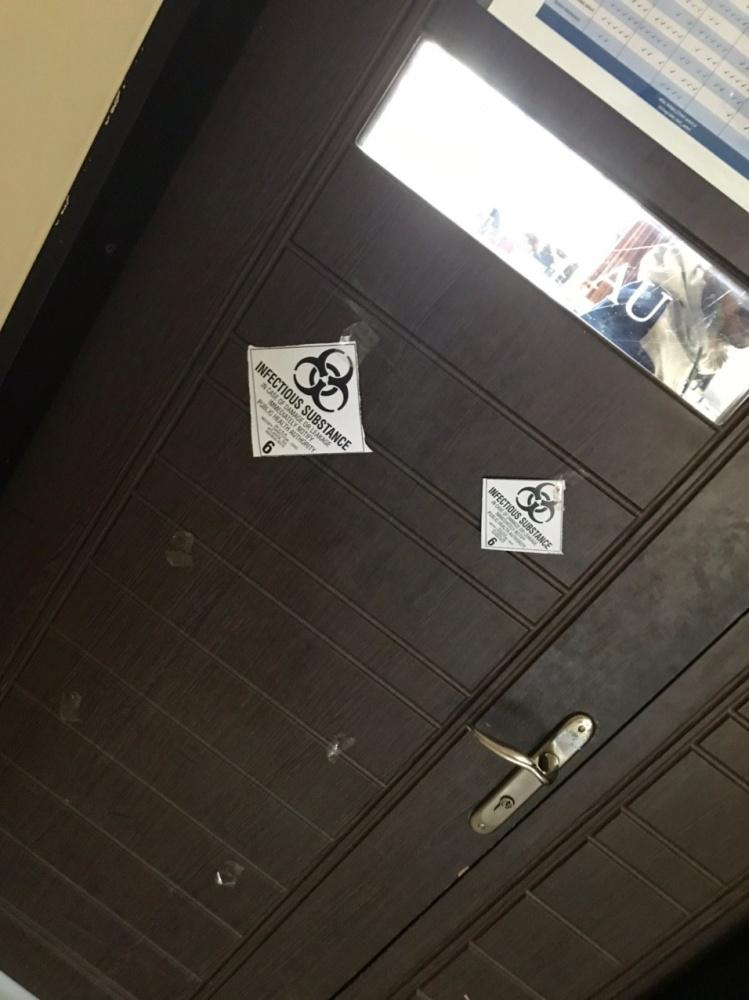infectious-substance: (246, 342, 365, 462), (478, 479, 566, 556)
